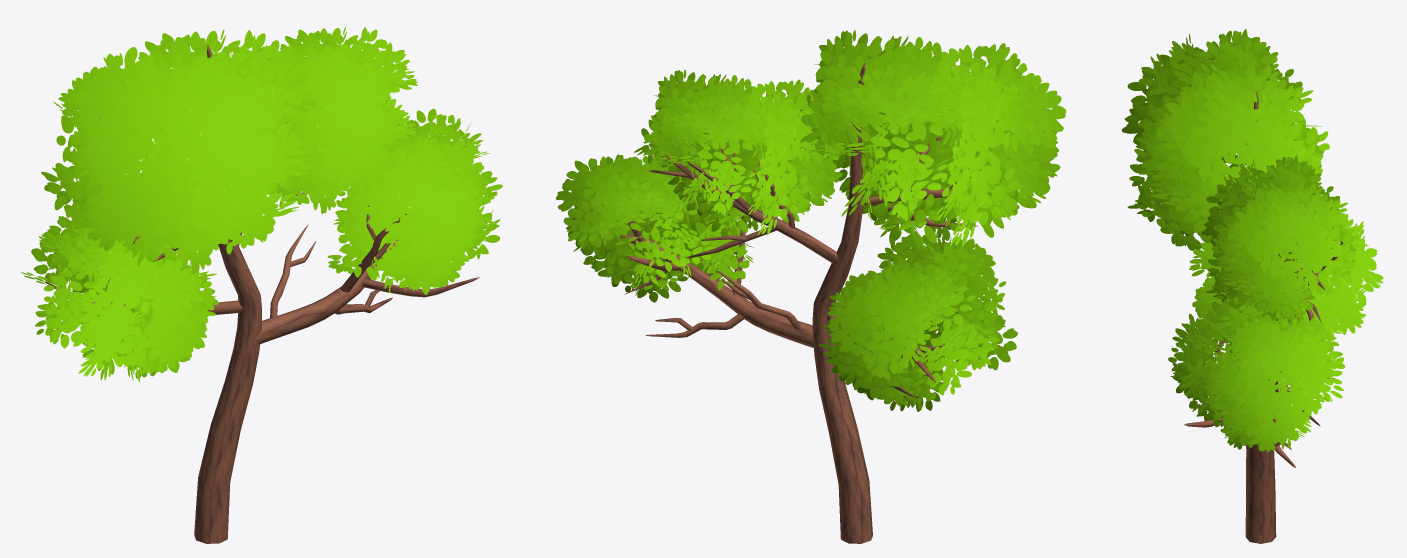
Rendered from etFGNvsiFv-lod.glb.
3 views of the same model, side by side, from view 1: azimuth 30°, elevation 25°; view 2: azimuth 150°, elevation 25°; view 3: azimuth 270°, elevation 25° (orthographic). The views are drawn at different scales.
Visible parts, largest first — view 1: NormalTree_3; view 2: NormalTree_3; view 3: NormalTree_3.
Boxes of the visible parts, x1,y1,x2,y2 form: NormalTree_3: (20,26,502,543); NormalTree_3: (556,30,1066,543); NormalTree_3: (1122,29,1383,543).
Bounding box in the file's own units: 5.04 × 5.28 × 2.88.
Materials: 2 (2 with a texture image).
